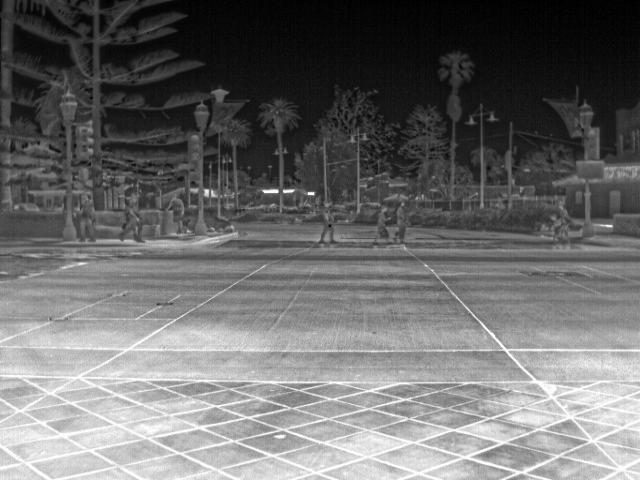person: (118, 195, 146, 243), (73, 192, 100, 240), (318, 202, 340, 246), (392, 199, 408, 242), (165, 192, 186, 220), (377, 205, 391, 241), (556, 200, 574, 222)
